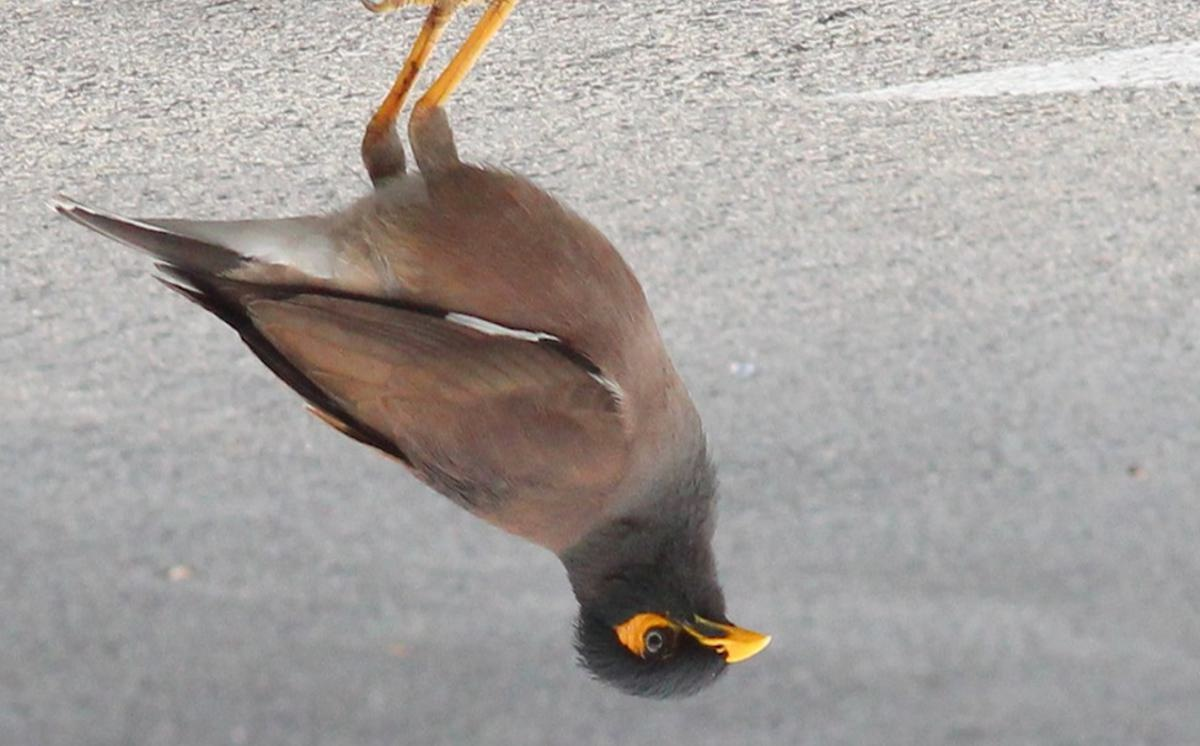myna: (135, 11, 814, 684)
